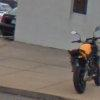Motorcycle: (62, 27, 100, 91)
